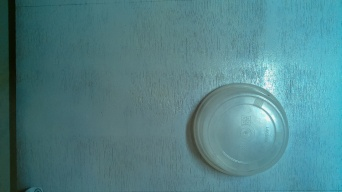f: (188, 76, 290, 179)
